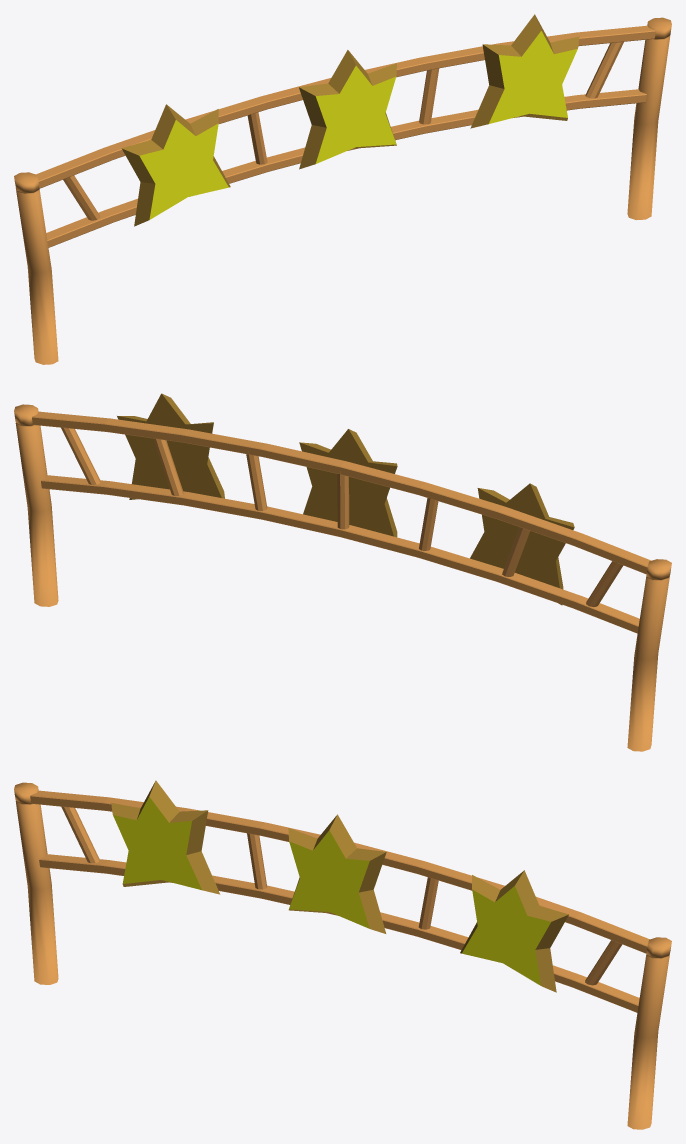
The model's file is MD_Finish_Line_Gantry.fbx.
3 views of the same model, one above another, from view 1: azimuth 30°, elevation 25°; view 2: azimuth 150°, elevation 25°; view 3: azimuth 330°, elevation 25° (orthographic).
Parts seen in each view (by area): view 1: Cube.002, Plane.001, Plane.002, Plane; view 2: Cube.002, Plane.001, Plane, Plane.002; view 3: Cube.002, Plane.001, Plane, Plane.002.
Part boxes in pixels (x1=…): Cube.002: x1=14, y1=17, x2=671, y2=364; Plane.001: x1=299, y1=50, x2=396, y2=169; Plane.002: x1=470, y1=14, x2=579, y2=128; Plane: x1=121, y1=104, x2=230, y2=226; Cube.002: x1=14, y1=404, x2=671, y2=751; Plane.001: x1=299, y1=429, x2=397, y2=537; Plane: x1=470, y1=483, x2=574, y2=605; Plane.002: x1=117, y1=393, x2=224, y2=499; Cube.002: x1=14, y1=782, x2=671, y2=1129; Plane.001: x1=288, y1=814, x2=386, y2=933; Plane: x1=111, y1=780, x2=220, y2=894; Plane.002: x1=460, y1=870, x2=568, y2=992.
Size of the model in its own units: 3662 by 1291 by 190.
